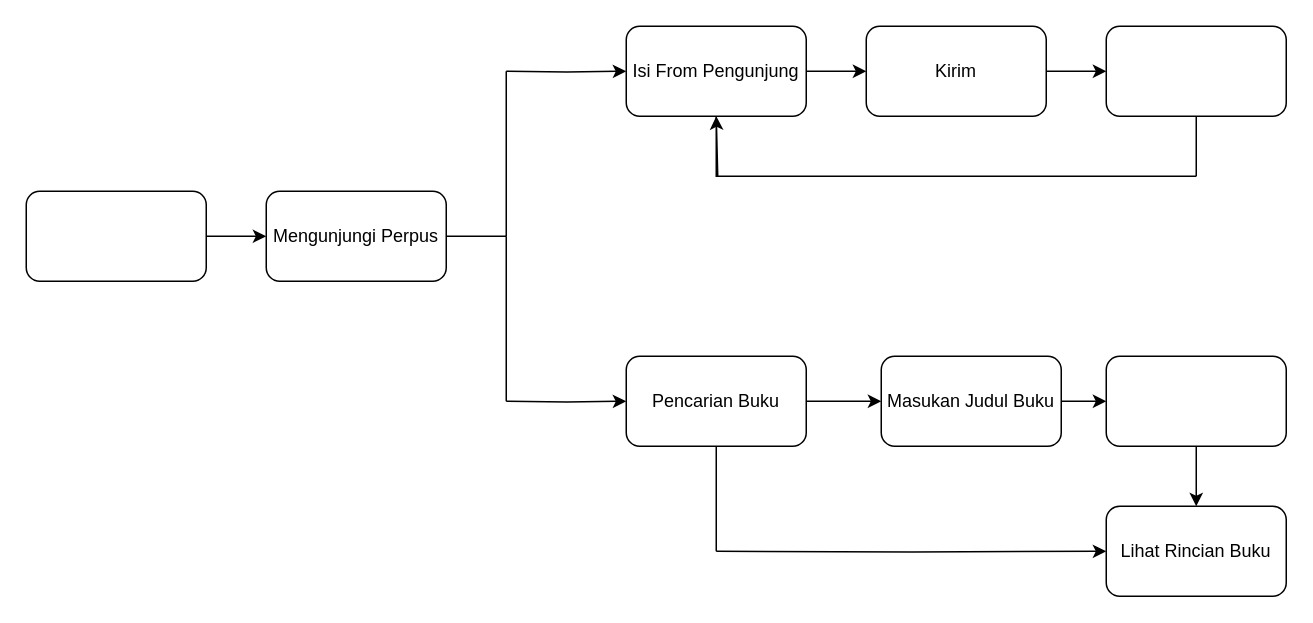
This 1313x623 diagram has some shape labels left out. The shapes that lost their labels are listed below. From the top down, each one's centre as x and y in pixels, then its label:
At (1195,70): "Daftar Kunjungan".
At (115,235): "User".
At (1195,400): "Hasil Pencaharian".
